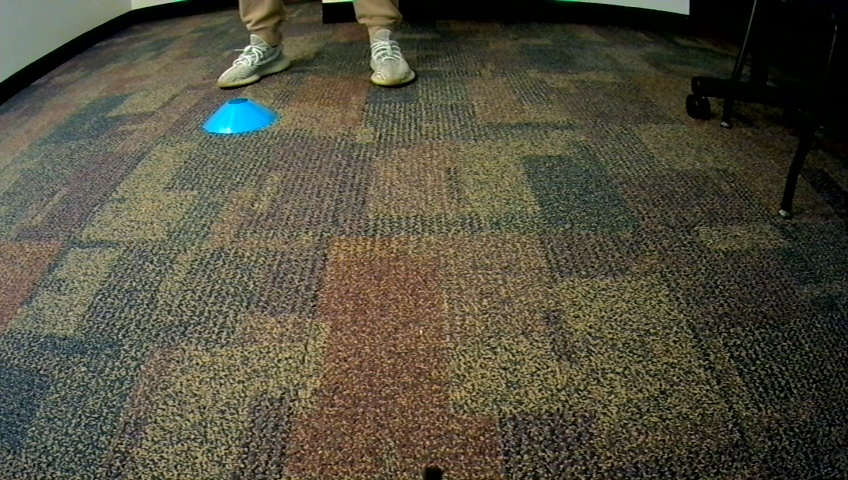cone: (202, 98, 283, 134)
